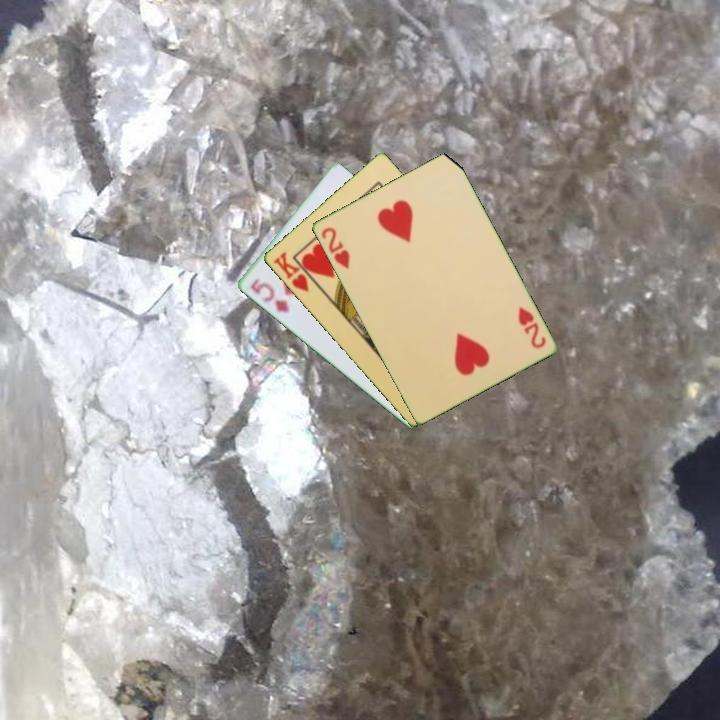2h: (317, 223, 352, 272), (514, 303, 548, 352)
5d: (246, 274, 293, 316)
Kh: (269, 248, 320, 295)
